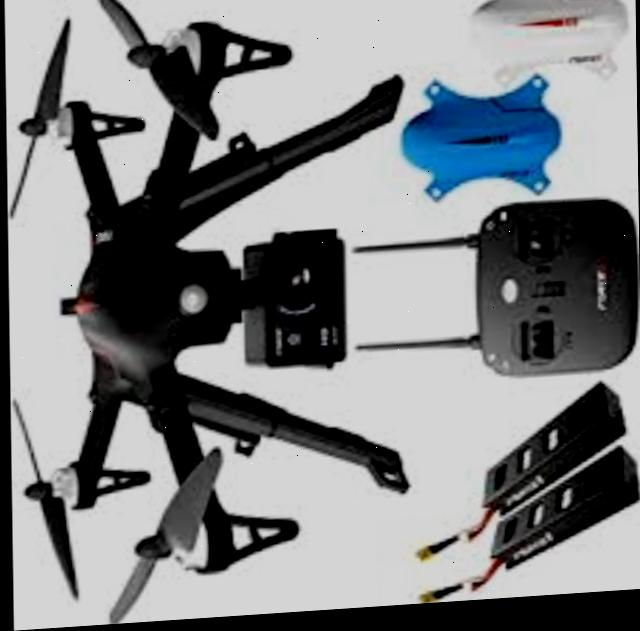drone: (4, 0, 441, 631)
